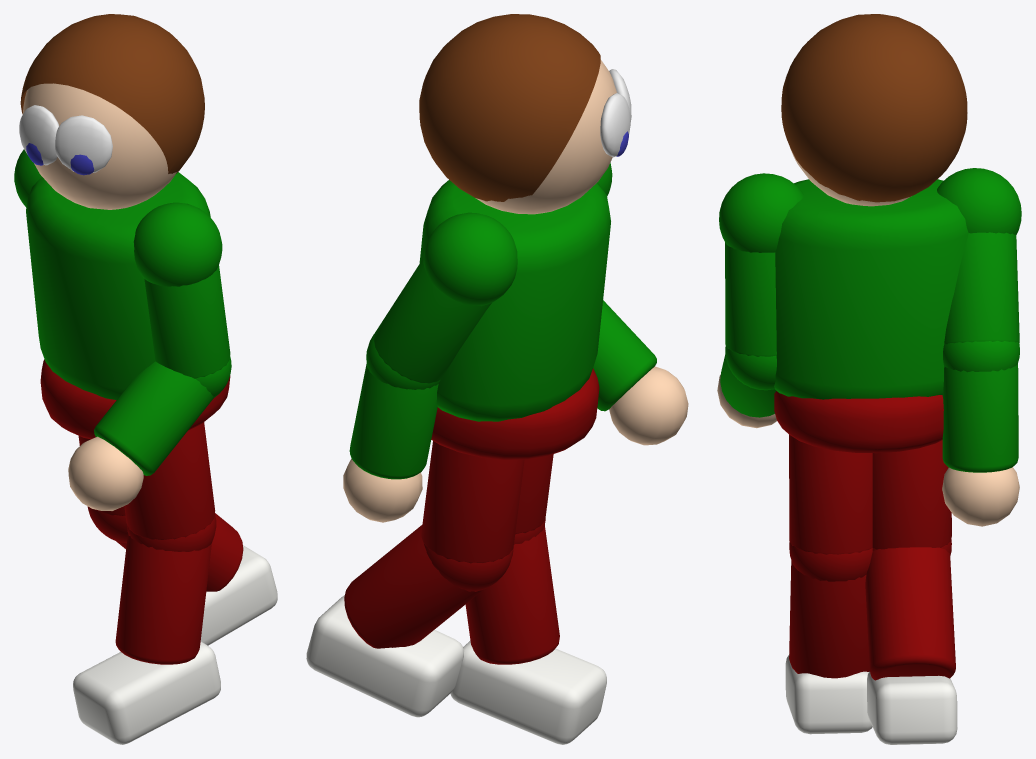
The picture shows the model from 3 angles, left to right: view 1: azimuth 30°, elevation 25°; view 2: azimuth 150°, elevation 25°; view 3: azimuth 270°, elevation 25°; orthographic projection. The views are drawn at different scales.
Visible parts, largest first — view 1: torso, hair, shin_n, shoe_n, head, farm_n, uarm_n, thigh_n, shoulder_ball_n, shoe_f, hand_n, pelvis (+7 smaller); view 2: torso, hair, shoe_n, thigh_f, shoe_f, shin_f, shin_n, uarm_f, farm_f, pelvis, shoulder_ball_f, head (+7 smaller); view 3: torso, hair, shin_f, thigh_n, pelvis, farm_f, shin_n, thigh_f, uarm_f, shoe_f, uarm_n, shoulder_ball_n (+9 smaller).
Part boxes in pixels (<box>): torso: <box>26,172,210,399</box>; hair: <box>20,14,204,173</box>; shin_n: <box>115,533,211,664</box>; shoe_n: <box>73,641,220,744</box>; head: <box>23,83,176,209</box>; farm_n: <box>94,361,213,475</box>; uarm_n: <box>144,265,230,378</box>; thigh_n: <box>124,422,215,539</box>; shoulder_ball_n: <box>133,202,222,286</box>; shoe_f: <box>200,545,277,645</box>; hand_n: <box>68,436,143,510</box>; pelvis: <box>40,359,230,439</box>; torso: <box>419,180,610,421</box>; hair: <box>419,14,600,201</box>; shoe_n: <box>450,640,606,744</box>; thigh_f: <box>421,441,524,563</box>; shoe_f: <box>306,595,463,717</box>; shin_f: <box>344,525,483,648</box>; shin_n: <box>465,525,559,664</box>; uarm_f: <box>373,258,491,383</box>; farm_f: <box>349,363,438,479</box>; pelvis: <box>431,368,599,459</box>; shoulder_ball_f: <box>423,212,517,306</box>; head: <box>475,59,616,214</box>; torso: <box>774,179,968,399</box>; hair: <box>781,14,967,202</box>; shin_f: <box>865,547,955,680</box>; thigh_n: <box>789,434,872,554</box>; pelvis: <box>774,391,943,453</box>; farm_f: <box>942,364,1018,472</box>; shin_n: <box>789,560,869,678</box>; thigh_f: <box>872,440,951,549</box>; uarm_f: <box>944,232,1019,344</box>; shoe_f: <box>867,671,957,744</box>; uarm_n: <box>725,242,776,356</box>; shoulder_ball_n: <box>719,173,803,252</box>.
Size of the model in its own units: 0.6153 by 1.5 by 0.5924.
